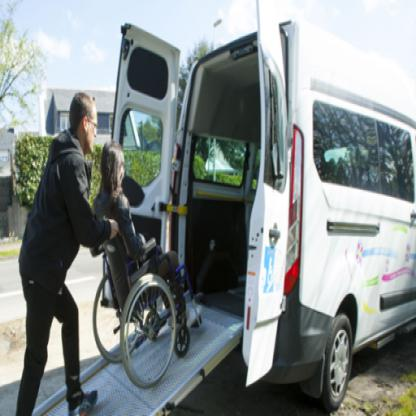wheelchair: (92, 133, 204, 379)
